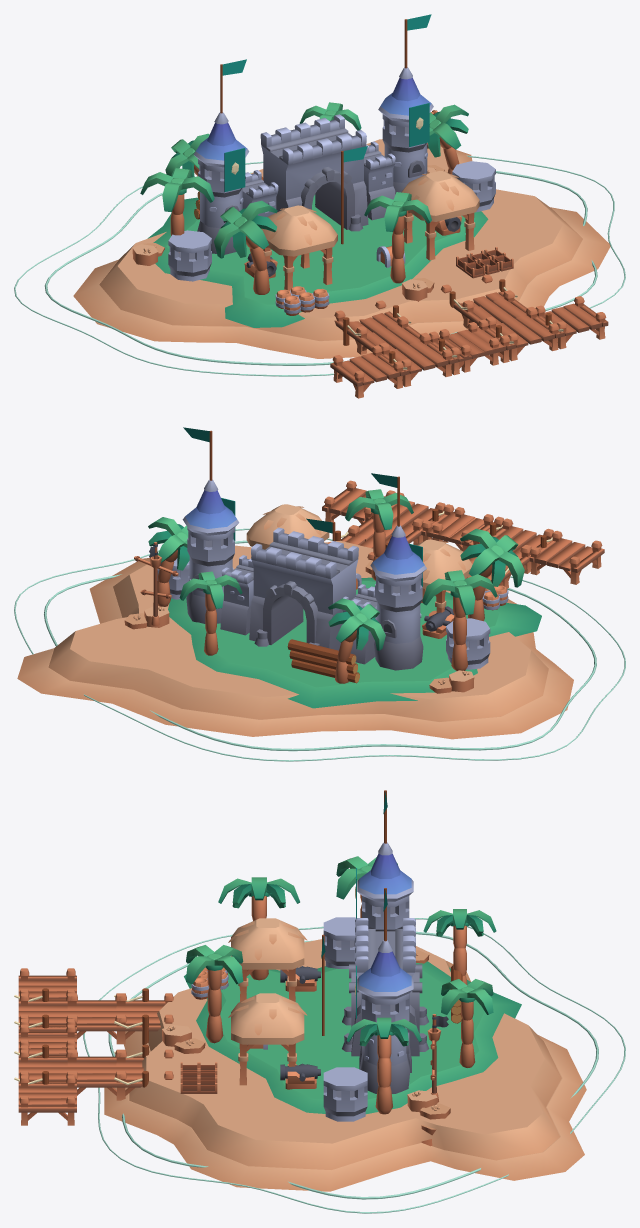
The model's file is harbor-player.glb.
3 views of the same model, one above another, from view 1: azimuth 30°, elevation 25°; view 2: azimuth 150°, elevation 25°; view 3: azimuth 270°, elevation 25° (orthographic). The views are drawn at different scales.
Visible parts, largest first — view 1: Beach • sandy silhouette.004, Island ground cover.004, Wet sand shelf.004, Harbor keep gate, structure-roof.004, structure-roof.005, Harbor bastion, Harbor bastion.001, palm-detailed-bend.014, structure-platform-dock.005, palm-straight.014, tower-watch.001 (+22 smaller); view 2: Beach • sandy silhouette.004, Wet sand shelf.004, Island ground cover.004, Harbor keep gate, Harbor bastion, Harbor bastion.001, palm-detailed-bend.014, palm-straight.013, palm-detailed-bend.013, Shore foam.008, structure-platform-dock.005, castle-wall.002 (+23 smaller); view 3: Beach • sandy silhouette.004, Island ground cover.004, Wet sand shelf.004, Harbor bastion.001, Harbor keep gate, structure-roof.005, structure-roof.004, Harbor bastion, palm-straight.014, palm-detailed-bend.012, tower-watch.002, structure-platform-dock.008 (+20 smaller).
Boxes of the visible parts, box(x1,y1,x2,y2) form: Beach • sandy silhouette.004: box(99, 139, 582, 340); Island ground cover.004: box(147, 194, 488, 327); Wet sand shelf.004: box(73, 145, 610, 358); Harbor keep gate: box(260, 114, 368, 231); structure-roof.004: box(261, 205, 337, 290); structure-roof.005: box(401, 171, 479, 260); Harbor bastion: box(193, 112, 249, 254); Harbor bastion.001: box(378, 67, 433, 194); palm-detailed-bend.014: box(214, 200, 277, 294); structure-platform-dock.005: box(330, 345, 405, 398); palm-straight.014: box(364, 192, 431, 283); tower-watch.001: box(168, 230, 211, 281); Beach • sandy silhouette.004: box(48, 540, 548, 721); Wet sand shelf.004: box(17, 558, 573, 739); Island ground cover.004: box(168, 577, 541, 708); Harbor keep gate: box(249, 527, 358, 650); Harbor bastion: box(370, 525, 426, 670); Harbor bastion.001: box(182, 479, 239, 623); palm-detailed-bend.014: box(460, 528, 524, 621); palm-straight.013: box(422, 570, 497, 670); palm-detailed-bend.013: box(328, 598, 385, 683); Shore foam.008: box(44, 540, 596, 751); structure-platform-dock.005: box(528, 531, 604, 584); castle-wall.002: box(220, 555, 253, 635); Beach • sandy silhouette.004: box(129, 939, 561, 1169); Island ground cover.004: box(184, 961, 521, 1114); Wet sand shelf.004: box(104, 961, 586, 1191); Harbor bastion.001: box(357, 940, 413, 1093); Harbor keep gate: box(342, 918, 429, 1056); structure-roof.005: box(228, 993, 307, 1085); structure-roof.004: box(228, 918, 307, 1001); Harbor bastion: box(357, 842, 413, 931); palm-straight.014: box(186, 945, 243, 1043); palm-detailed-bend.012: box(346, 1017, 421, 1114); tower-watch.002: box(323, 1067, 367, 1121); structure-platform-dock.008: box(18, 1075, 76, 1125).
Bounding box in the file's own units: 31.42 × 11.25 × 27.55.
Materials: 21 (16 with a texture image).
